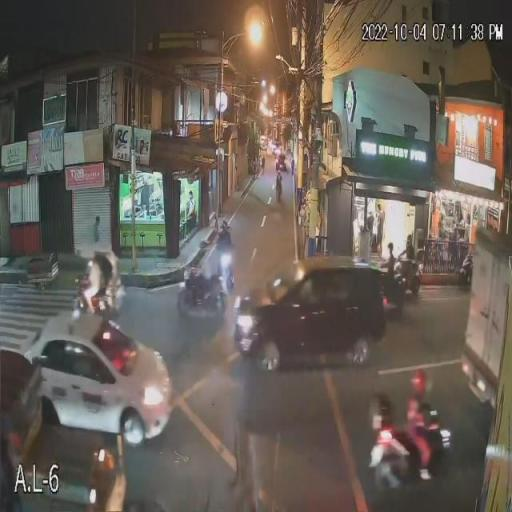helmet: (410, 365, 433, 394), (199, 238, 211, 256), (386, 243, 396, 256), (404, 234, 413, 248), (222, 220, 230, 232)
motorcycle: (368, 400, 454, 494), (172, 273, 230, 323), (70, 275, 124, 319), (373, 271, 411, 312), (401, 258, 432, 289), (220, 246, 239, 275)
rider: (402, 360, 438, 458), (192, 237, 214, 293), (100, 240, 122, 296), (81, 250, 100, 300), (382, 241, 398, 281), (219, 215, 237, 249), (402, 230, 416, 267)
